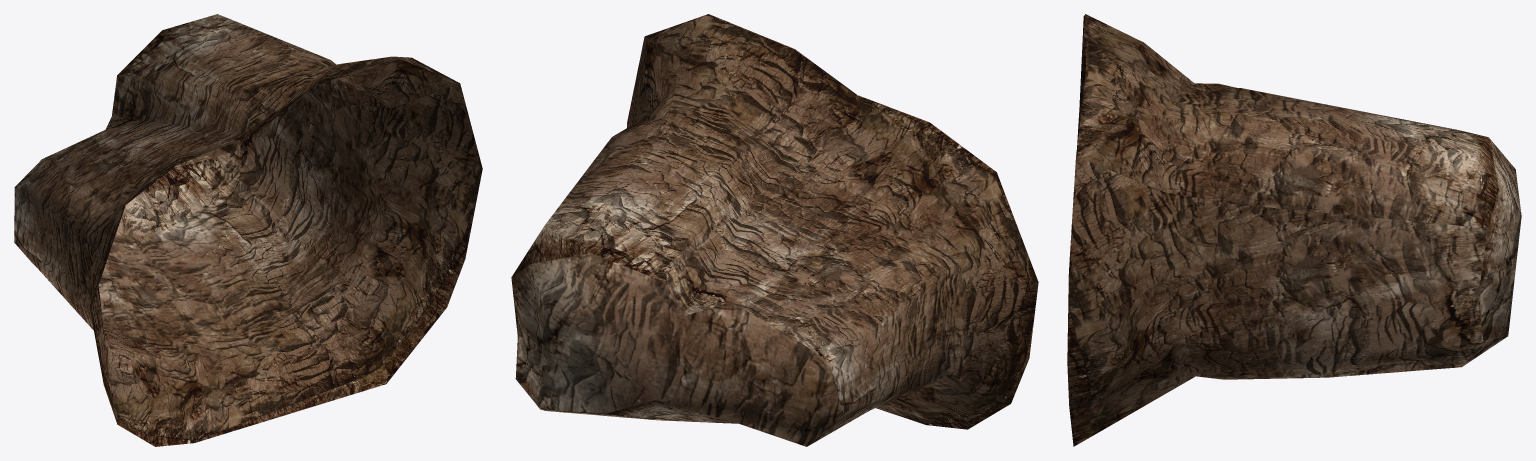
Rendered from MEP_DesertCliff_01.fbx.
3 renders of one model, left to right at view 1: azimuth 30°, elevation 25°; view 2: azimuth 150°, elevation 25°; view 3: azimuth 270°, elevation 25°, orthographic. The views are drawn at different scales.
Visible parts, largest first — view 1: MEP_Desert_Cliff_01; view 2: MEP_Desert_Cliff_01; view 3: MEP_Desert_Cliff_01.
Boxes of the visible parts, left/top/right/bottom form: MEP_Desert_Cliff_01: left=14, top=14, right=482, bottom=446; MEP_Desert_Cliff_01: left=511, top=14, right=1038, bottom=446; MEP_Desert_Cliff_01: left=1067, top=14, right=1521, bottom=446.
Bounding box in the file's own units: 21.44 × 17.74 × 18.36.
